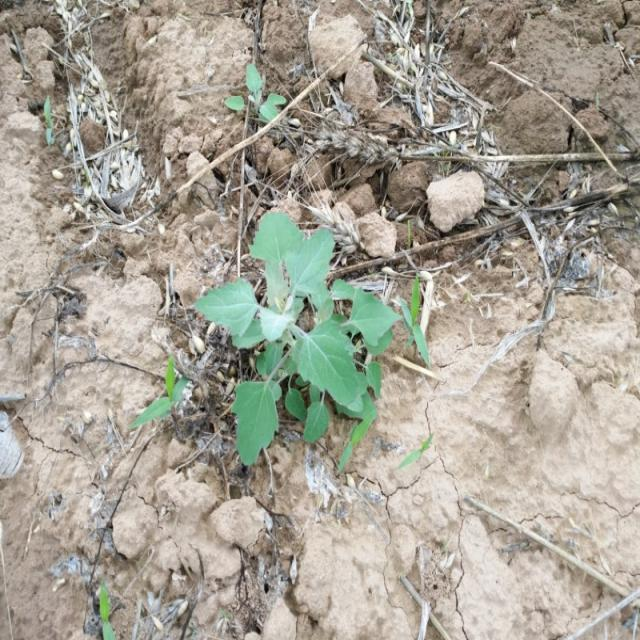goosefoots: (198, 209, 396, 451)
